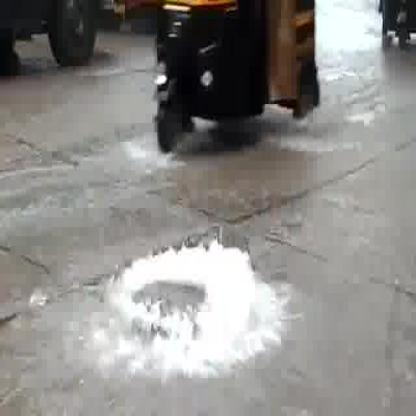drainage overflow-repair-: (62, 222, 302, 400)
